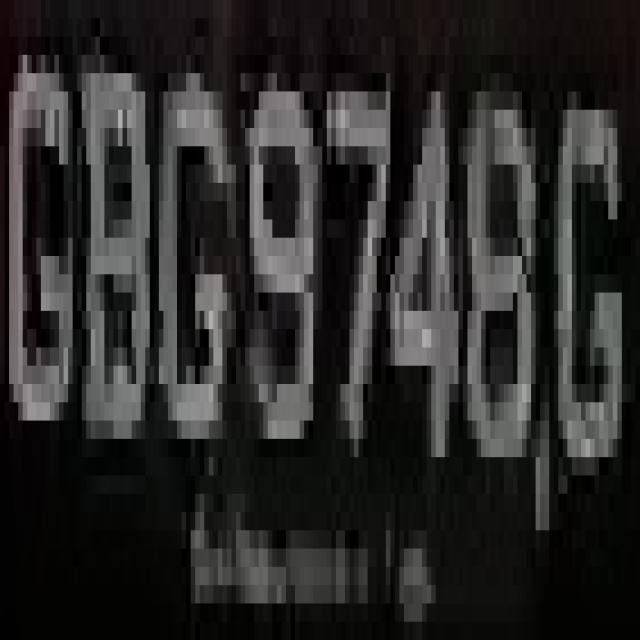4: (395, 91, 463, 494)
7: (318, 18, 399, 476)
8: (459, 73, 540, 530)
9: (240, 55, 318, 494)
B: (77, 36, 159, 494)
G: (554, 37, 631, 512), (5, 0, 77, 457), (159, 73, 227, 457)
